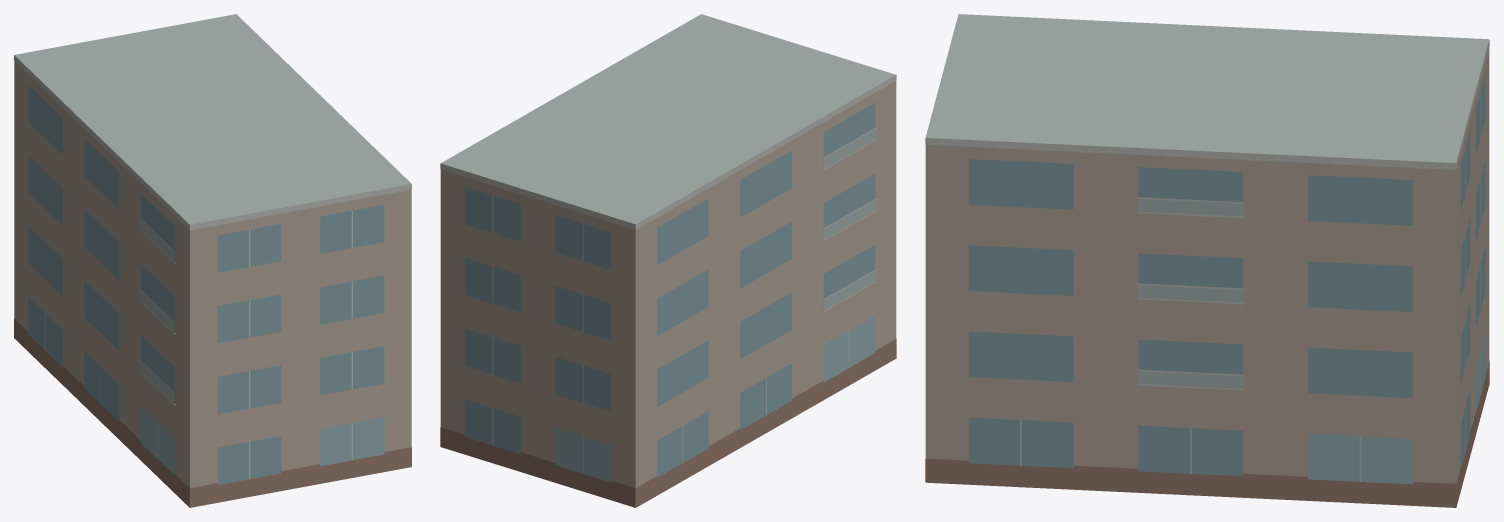
File: survey-upis-32827309.glb
3 renders of one model, left to right at view 1: azimuth 30°, elevation 25°; view 2: azimuth 150°, elevation 25°; view 3: azimuth 270°, elevation 25°, orthographic. The views are drawn at different scales.
Parts seen in each view (by area): view 1: survey-upis-32827309.tmp; view 2: survey-upis-32827309.tmp; view 3: survey-upis-32827309.tmp.
Boxes of the visible parts, bbox=[...] form: survey-upis-32827309.tmp: bbox=[14, 14, 411, 507]; survey-upis-32827309.tmp: bbox=[440, 14, 896, 507]; survey-upis-32827309.tmp: bbox=[925, 14, 1489, 507].
Bounding box in the file's own units: 11.33 × 12.2 × 18.1.
